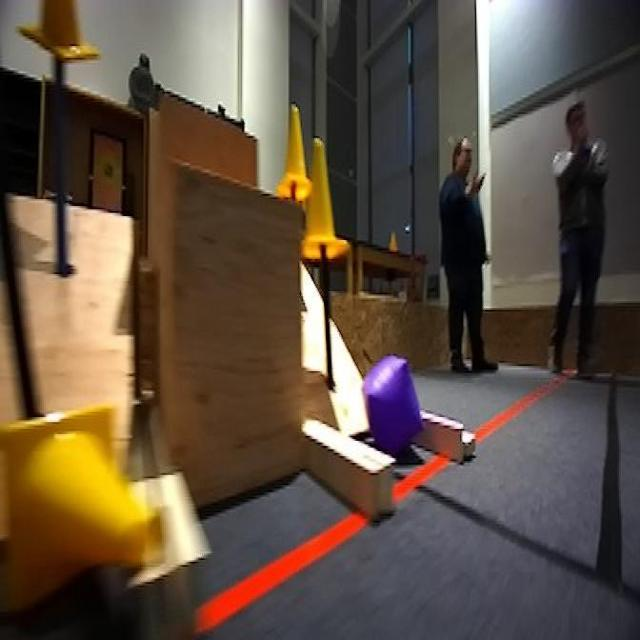frc_cone: (0, 395, 162, 630), (297, 145, 343, 269), (20, 0, 99, 63), (276, 104, 312, 201)
frc_cube: (367, 359, 428, 458)
